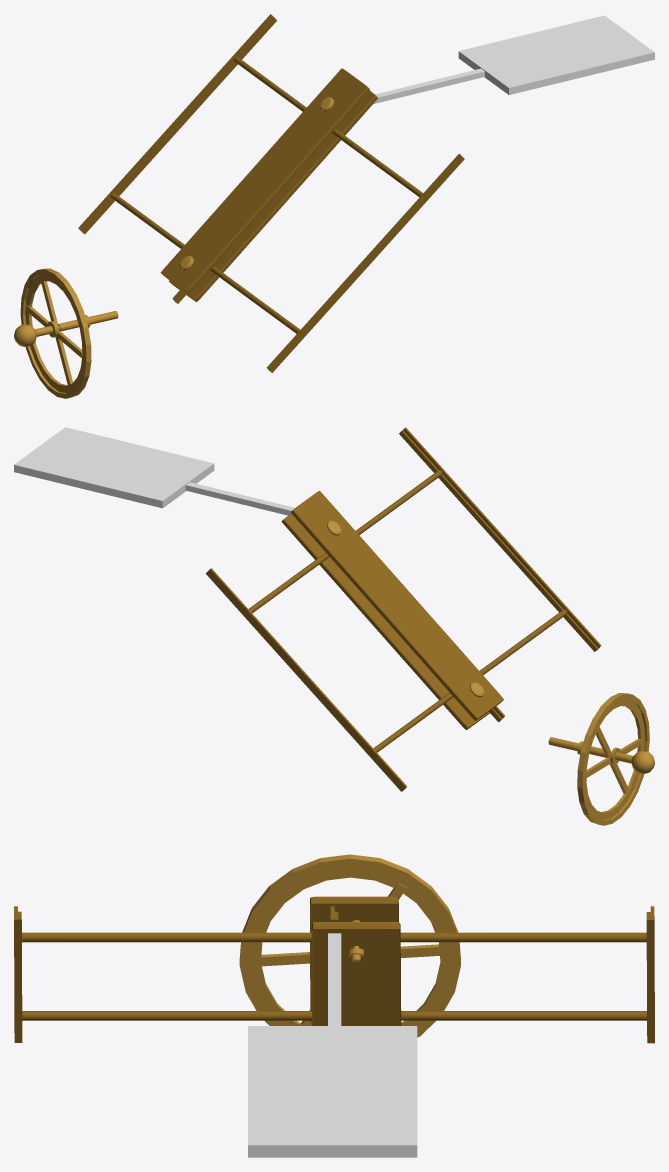
The model's file is pingyi2.fbx.
3 views of the same model, one above another, from view 1: azimuth 30°, elevation 25°; view 2: azimuth 150°, elevation 25°; view 3: azimuth 270°, elevation 25° (orthographic). The views are drawn at different scales.
Visible parts, largest first — view 1: 柱体.002, Cube.002, 立方体.068; view 2: 柱体.002, Cube.002, 立方体.068; view 3: Cube.002, 柱体.002, 立方体.068.
Part boxes in pixels (x1,y1,x2,y2): 柱体.002: (14, 68, 377, 398); Cube.002: (373, 15, 654, 103); 立方体.068: (78, 14, 464, 372); 柱体.002: (281, 491, 654, 825); Cube.002: (14, 427, 294, 515); 立方体.068: (206, 427, 601, 791); Cube.002: (248, 933, 417, 1157); 柱体.002: (239, 854, 460, 1037); 立方体.068: (14, 906, 654, 1043).
Bounding box in the file's own units: 451 × 171 × 245.
